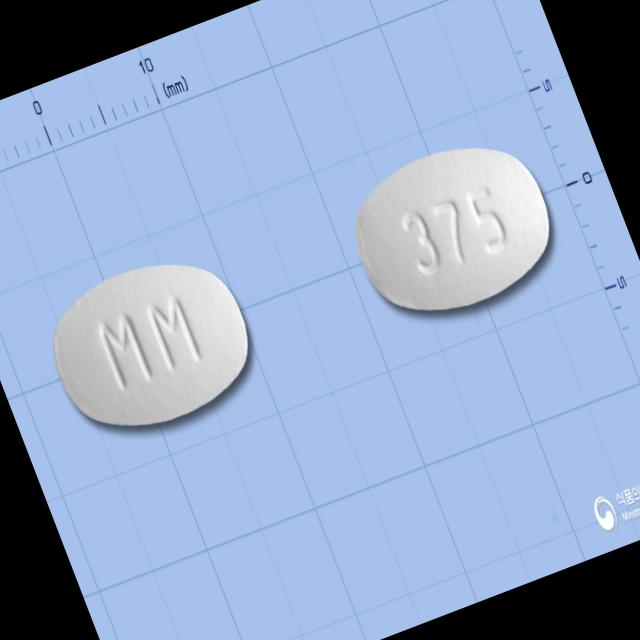Amoclan - Myungmoon: (30, 234, 274, 456), (334, 119, 571, 334)
